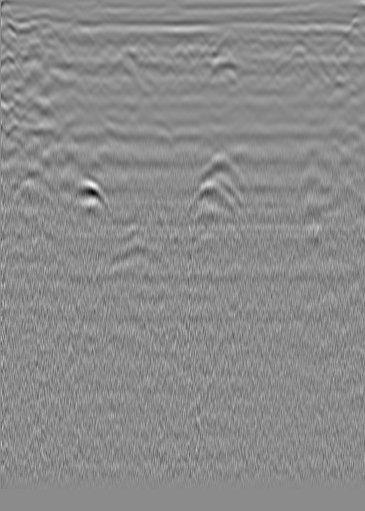가스: (64, 177, 112, 210)
상수: (330, 33, 350, 53)
오수: (21, 33, 41, 53)
우수: (188, 33, 208, 53)
